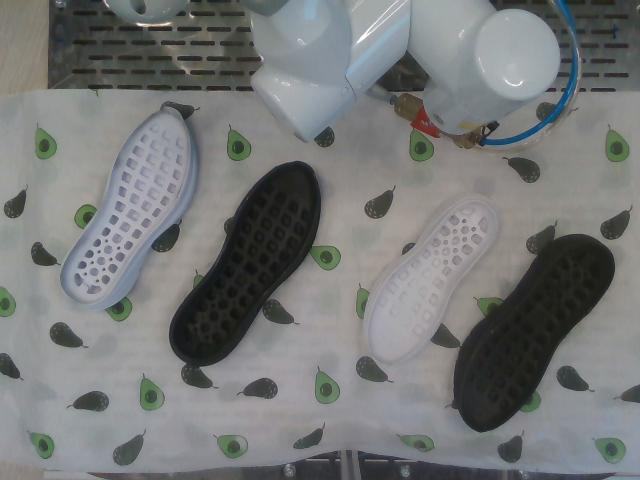shoes: (462, 243, 613, 430), (174, 163, 317, 359), (60, 108, 190, 304), (368, 201, 496, 363)
